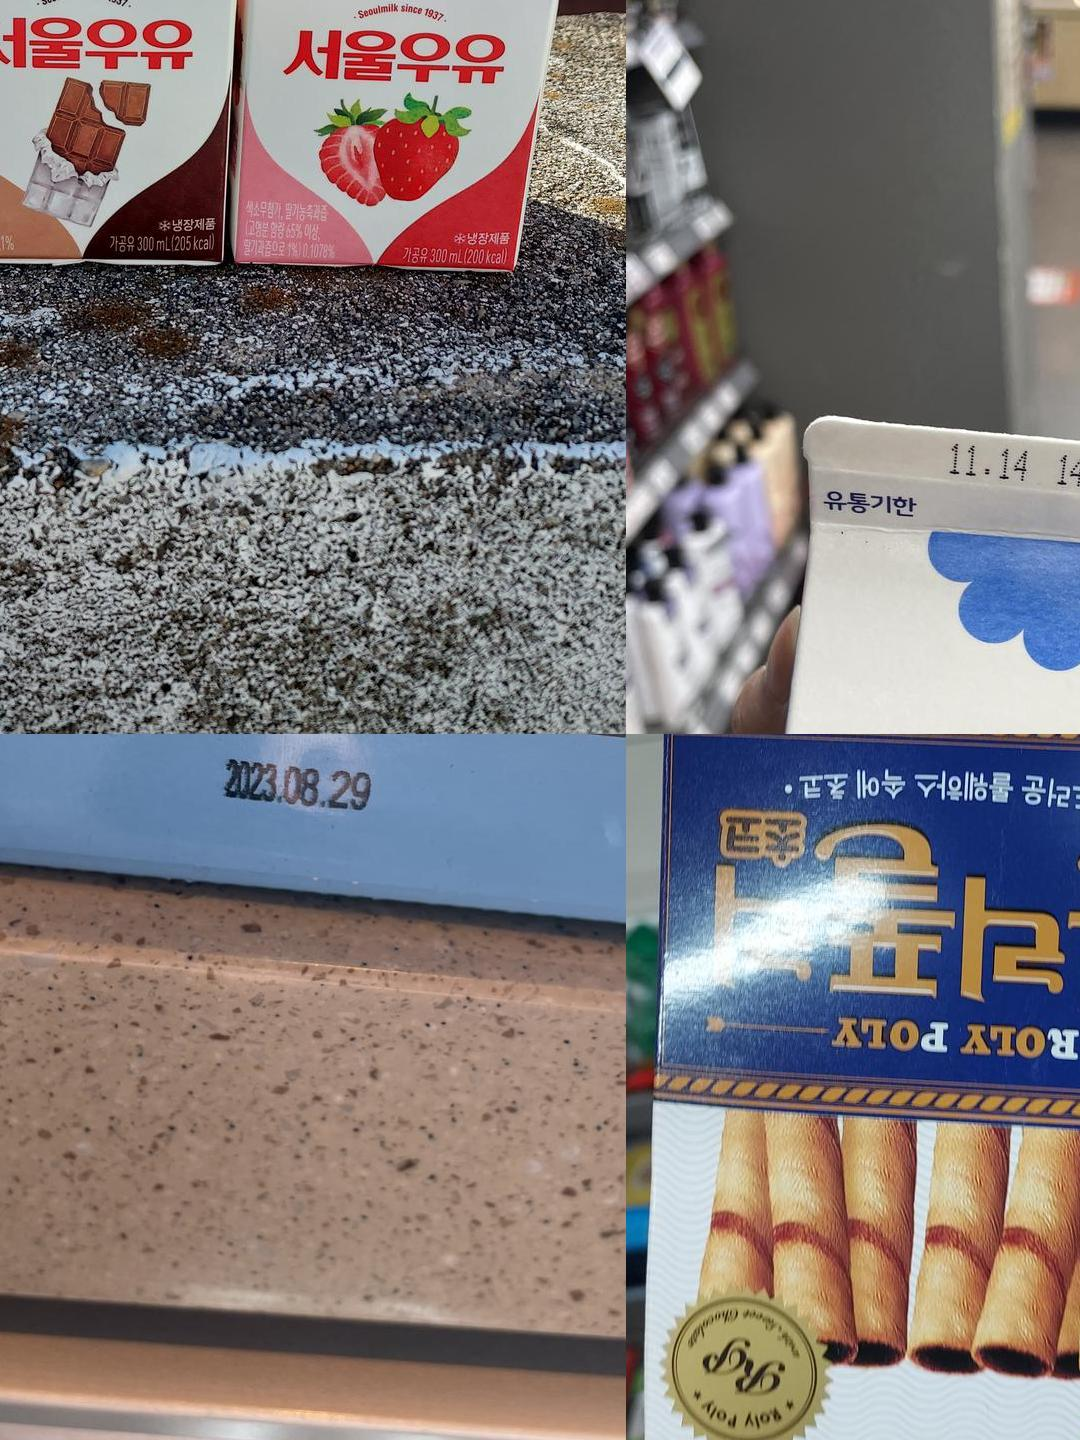milk: (810, 418, 1080, 559), (248, 0, 525, 42), (0, 0, 228, 39), (0, 0, 123, 32)
snack food: (192, 746, 410, 828), (812, 734, 1080, 783)
